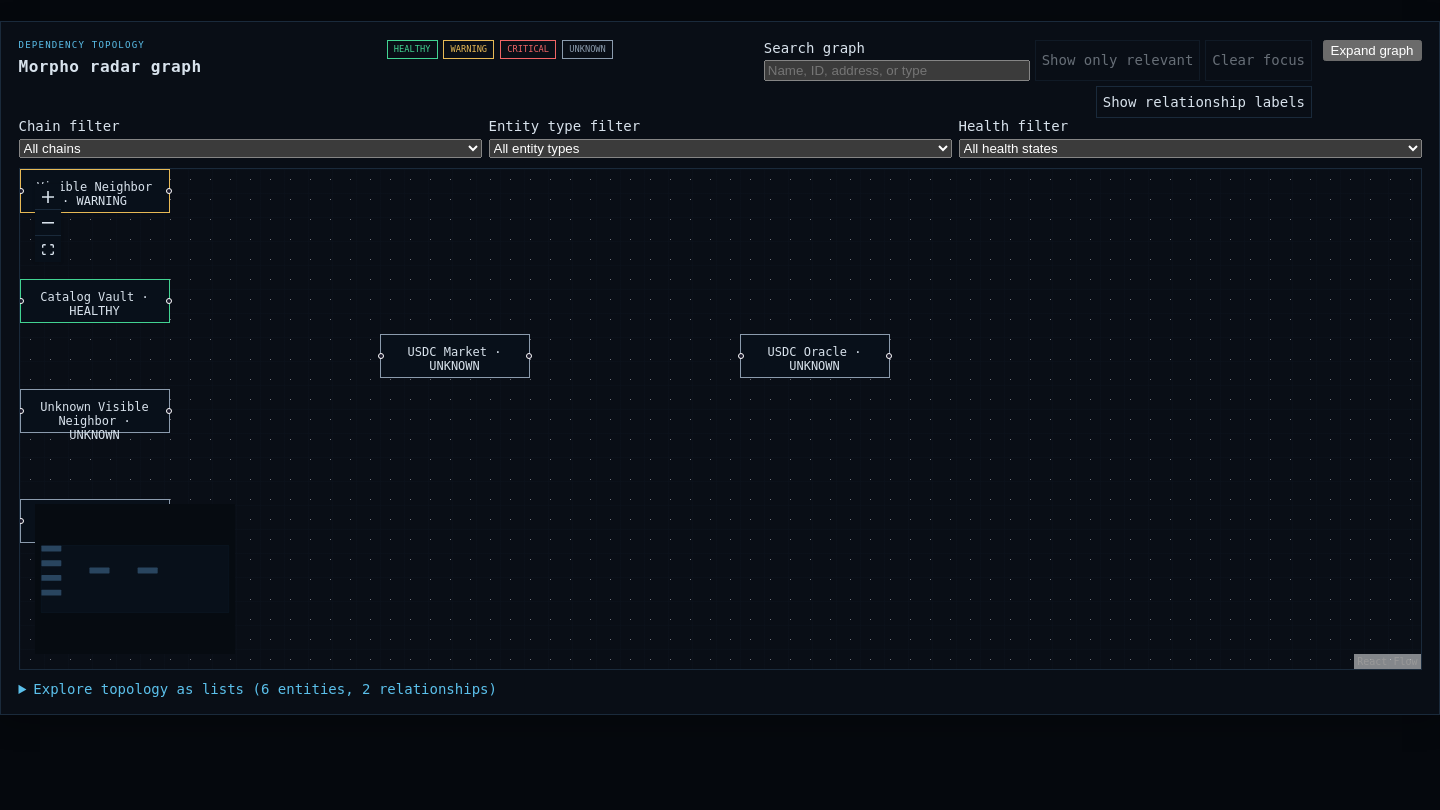
Test: RadarGraph › searches loaded entities the policy does not show, but never unrevealed hidden vaults
Type "orphan" into the search field labelled "Search graph" at (897, 70), box top-left (764, 60), bottom-right (1030, 81)
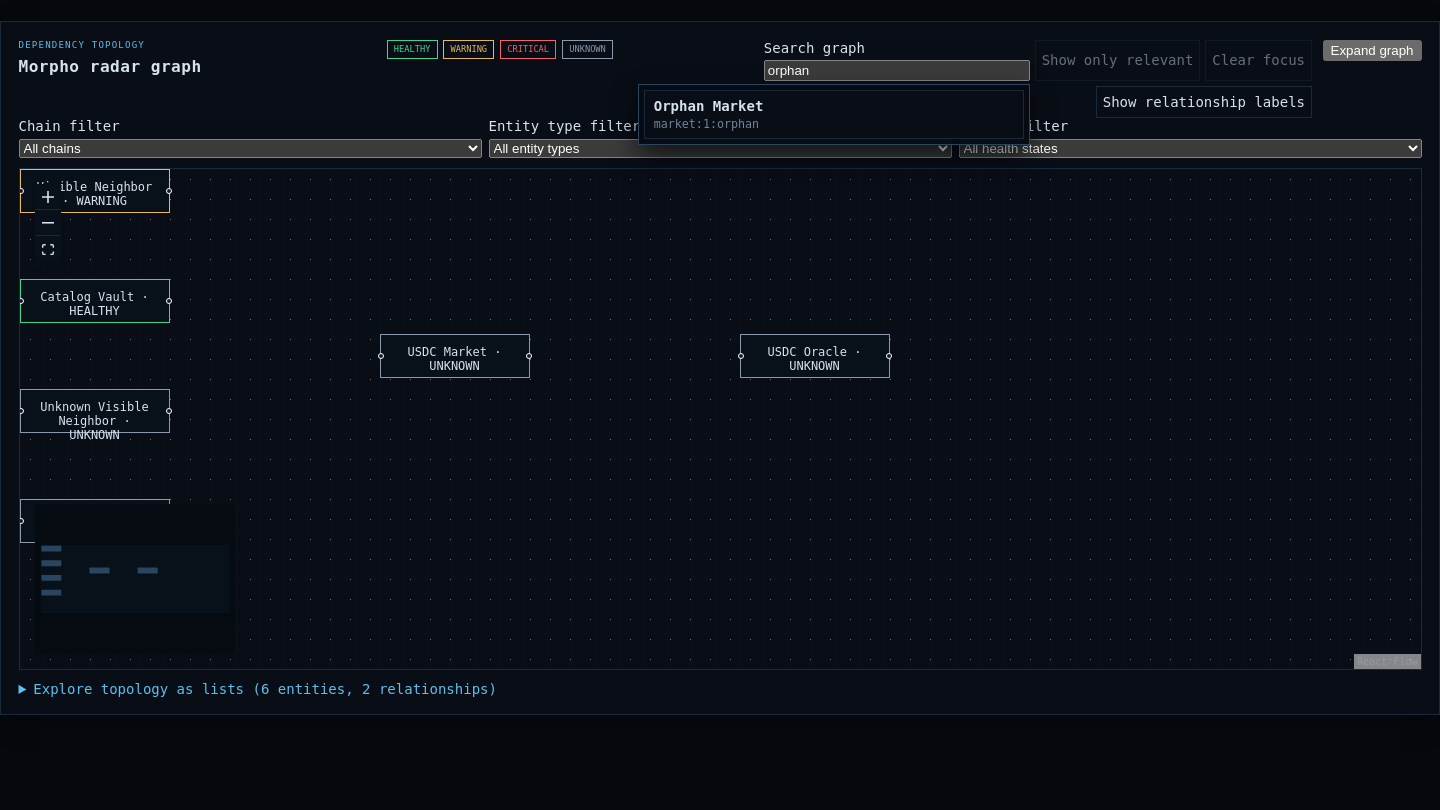
expect the button "Orphan Market market:1:orphan" is shown: met, box top-left (644, 90), bottom-right (1024, 139)
Replace the text in the search field labelled "Search graph" with "Healthy Hidden Neighbor" at (897, 70), box top-left (764, 60), bottom-right (1030, 81)
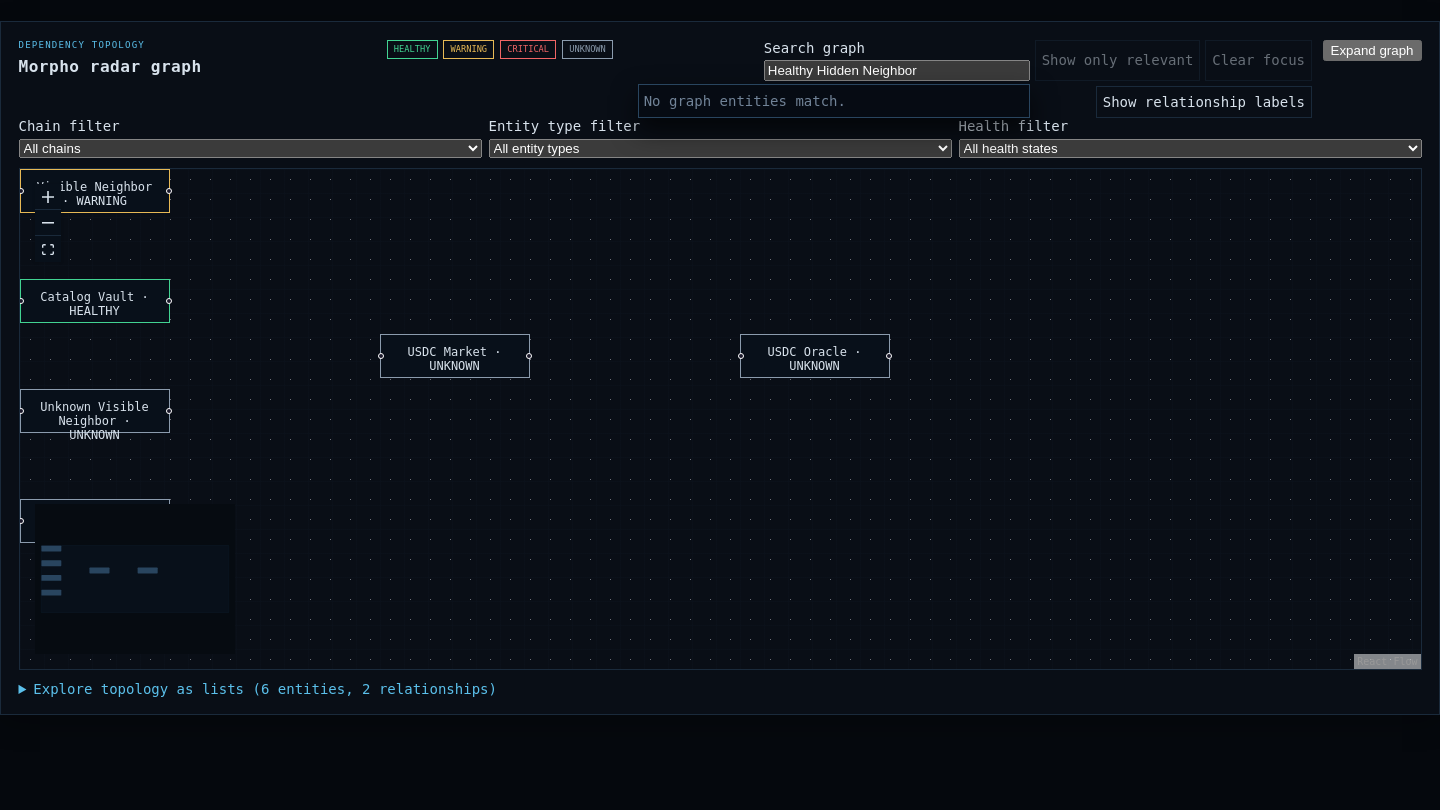
expect the text "No graph entities match." is shown: met, box top-left (638, 84), bottom-right (1030, 118)
